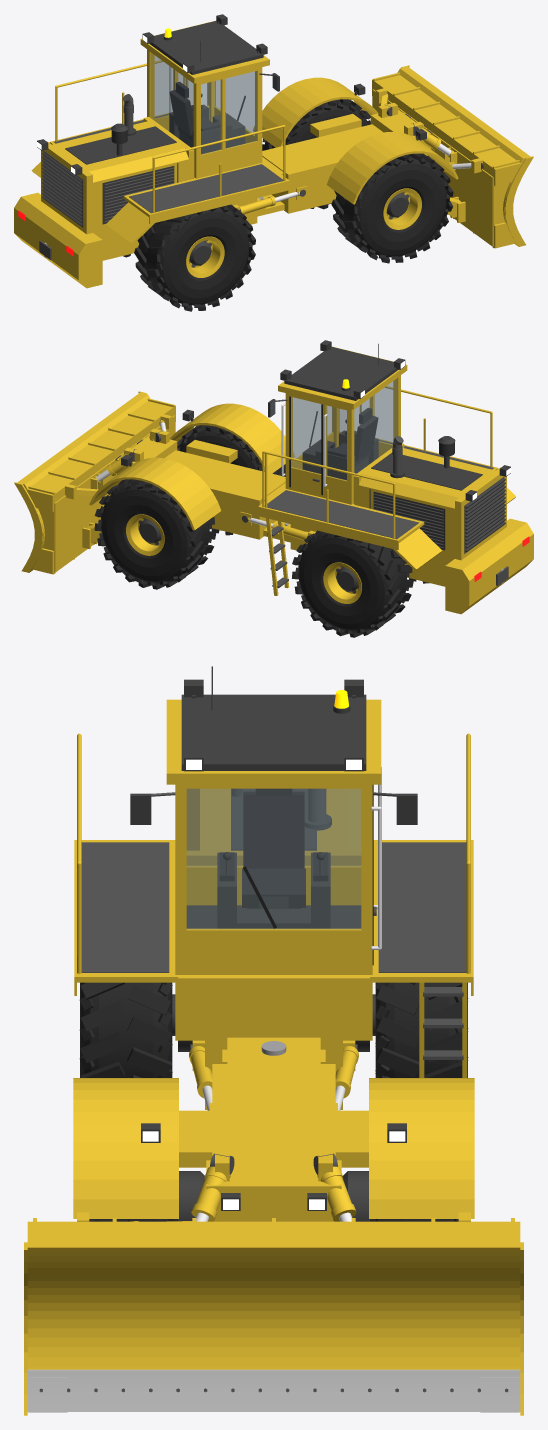
File: wheel_dozer.glb
The picture shows the model from 3 angles, top to bottom: view 1: azimuth 30°, elevation 25°; view 2: azimuth 150°, elevation 25°; view 3: azimuth 270°, elevation 25°; orthographic projection. The views are drawn at different scales.
Visible parts, largest first — view 1: rear_frame, cab, front_frame_rotate, blade_tilt, wheel_rear_right_spin, wheel_front_right_spin, wheel_front_left_spin; view 2: rear_frame, cab, front_frame_rotate, blade_tilt, wheel_rear_left_spin, wheel_front_left_spin, wheel_front_right_spin; view 3: blade_tilt, cab, front_frame_rotate, rear_frame, wheel_rear_right_spin, wheel_rear_left_spin, blade_lift_cylinder_right_rotate, blade_lift_cylinder_left_rotate.
Part boxes in pixels (x1,y1,x2,y2): rear_frame: [14, 60, 289, 288]; cab: [140, 14, 279, 178]; front_frame_rotate: [253, 77, 458, 216]; blade_tilt: [372, 65, 533, 248]; wheel_rear_right_spin: [134, 204, 255, 311]; wheel_front_right_spin: [331, 153, 453, 263]; wheel_front_left_spin: [262, 99, 370, 209]; rear_frame: [258, 386, 533, 614]; cab: [268, 340, 407, 504]; front_frame_rotate: [89, 403, 294, 542]; blade_tilt: [14, 391, 175, 574]; wheel_rear_left_spin: [292, 530, 413, 637]; wheel_front_left_spin: [94, 479, 216, 589]; wheel_front_right_spin: [177, 425, 285, 535]; blade_tilt: [24, 1212, 523, 1415]; cab: [130, 666, 417, 974]; front_frame_rotate: [73, 1037, 474, 1221]; rear_frame: [74, 733, 473, 1109]; wheel_rear_right_spin: [79, 982, 172, 1077]; wheel_rear_left_spin: [375, 982, 468, 1077]; blade_lift_cylinder_right_rotate: [191, 1153, 234, 1221]; blade_lift_cylinder_left_rotate: [313, 1153, 356, 1221].
Size of the model in its own units: 8 by 4.3 by 4.06.
14 materials, 14 textured.
